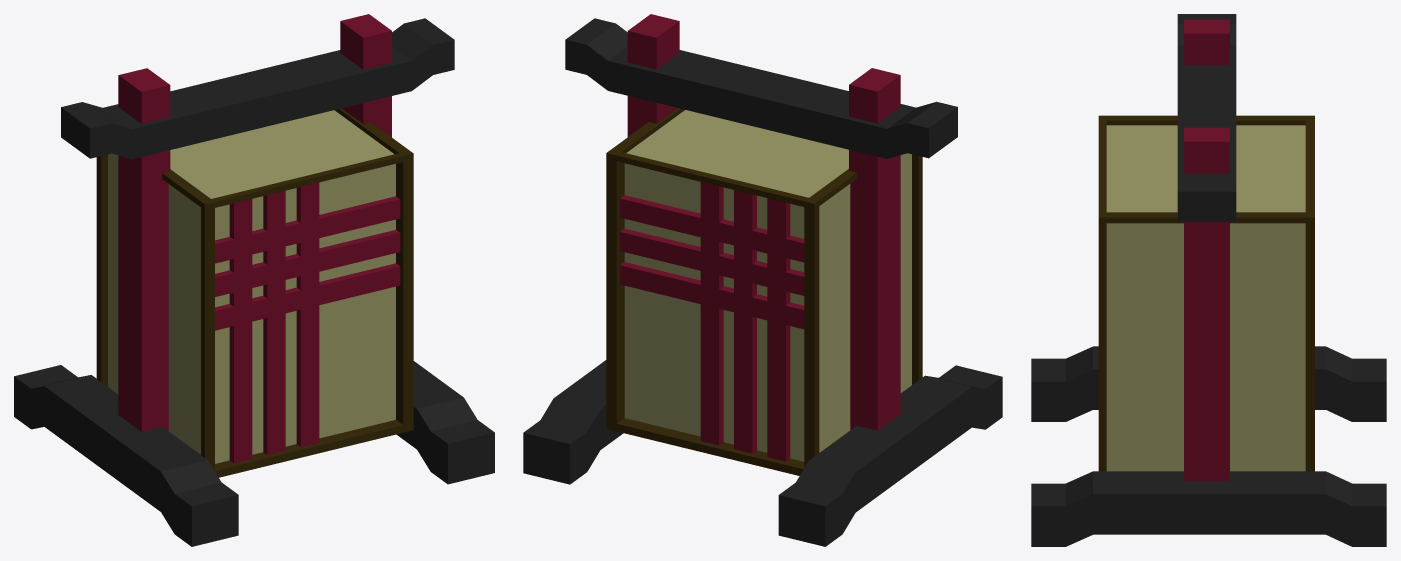
The model's file is NNJ0310011.fbx.
The picture shows the model from 3 angles, left to right: view 1: azimuth 30°, elevation 25°; view 2: azimuth 150°, elevation 25°; view 3: azimuth 270°, elevation 25°; orthographic projection.
Visible parts, largest first — view 1: smNNJ0310011; view 2: smNNJ0310011; view 3: smNNJ0310011.
Boxes of the visible parts, box(x1,y1,x2,y2) form: smNNJ0310011: box(14, 14, 494, 546); smNNJ0310011: box(523, 14, 1002, 546); smNNJ0310011: box(1031, 14, 1386, 546).
Size of the model in its own units: 87.21 by 89.82 by 73.66.
1 material, 1 textured.
